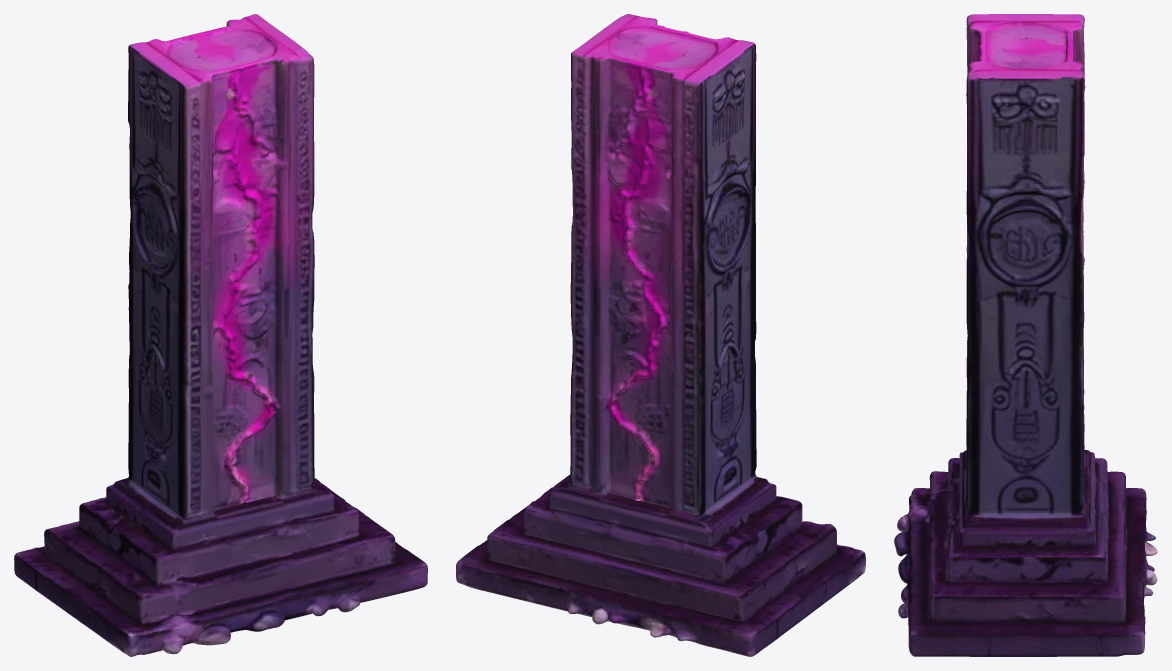
Rendered from weathered-monolith-pillar-generated-2026-04-19T23-27-04-251Z.low.glb.
3 renders of one model, left to right at view 1: azimuth 30°, elevation 25°; view 2: azimuth 150°, elevation 25°; view 3: azimuth 270°, elevation 25°, orthographic.
Parts seen in each view (by area): view 1: temp_mesh.ply; view 2: temp_mesh.ply; view 3: temp_mesh.ply.
Part boxes in pixels (x1,y1,x2,y2): temp_mesh.ply: (14,14,427,656); temp_mesh.ply: (456,14,865,656); temp_mesh.ply: (894,14,1157,656).
Size of the model in its own units: 1.17 by 1.97 by 0.874.
1 material, 1 textured.
